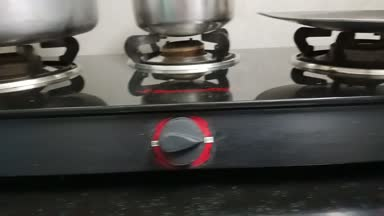flame_gas_off: (137, 29, 220, 166)
